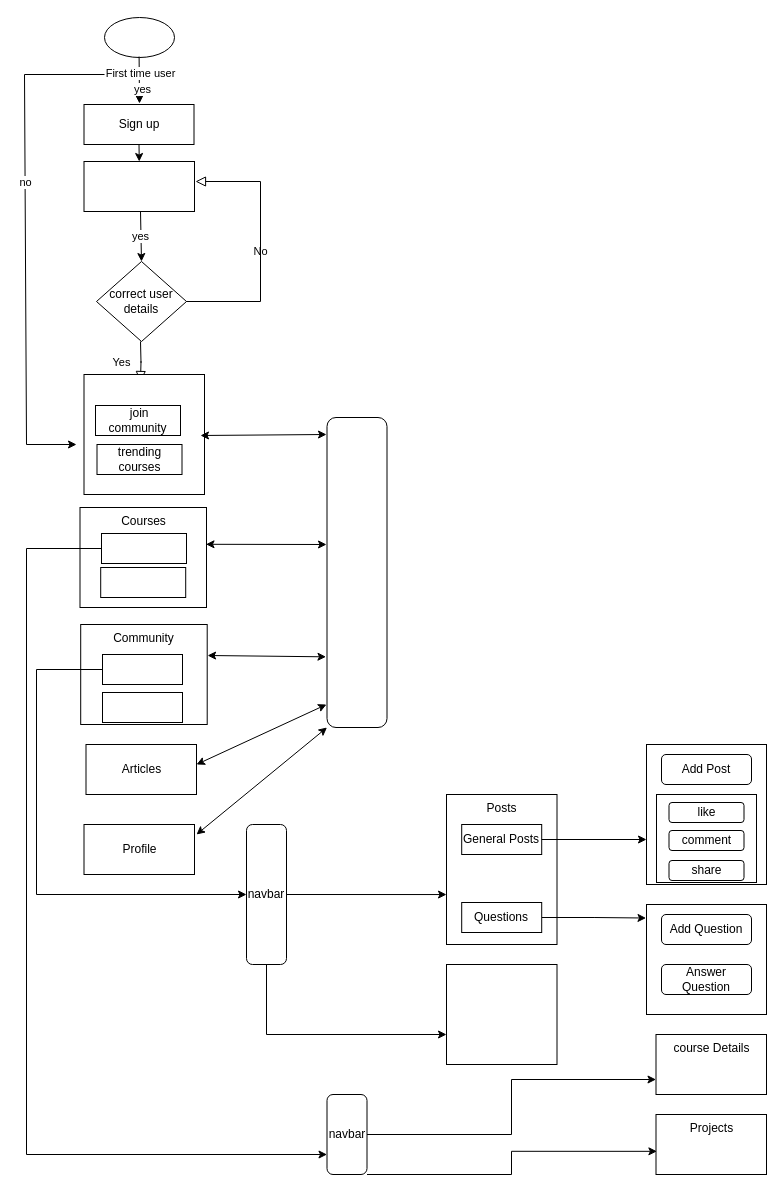
This 784x1200 diagram has some shape labels left out. The shapes that lost their labels are listed below. From the top down, each one's box as (x1, y1, x2, y2) in pixels, then its label:
(83, 160, 194, 212): Login
(83, 374, 204, 494): Home page
(100, 532, 186, 564): Enrolled courses
(100, 566, 186, 598): All courses
(326, 416, 387, 728): Navigation bar
(102, 654, 182, 684): Enrolled Communities
(102, 692, 182, 722): Communities
(446, 964, 557, 1064): Space
